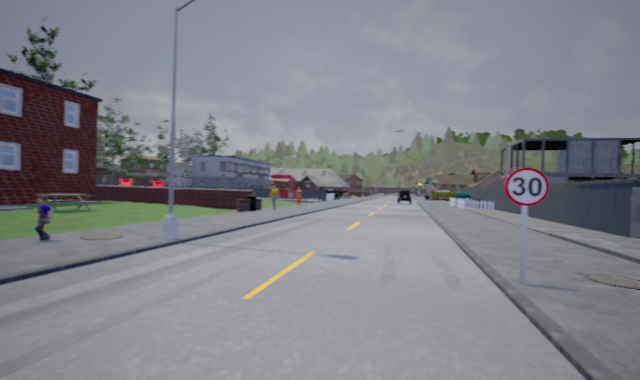pedestrian: (31, 191, 53, 243), (267, 183, 280, 210), (293, 185, 304, 206)
